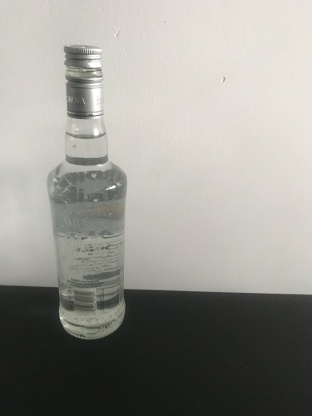nakretka: (62, 43, 104, 119)
